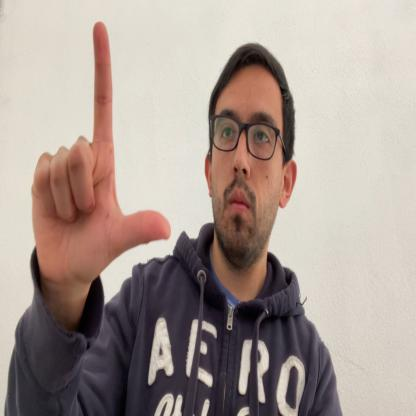L: (31, 21, 171, 285)
